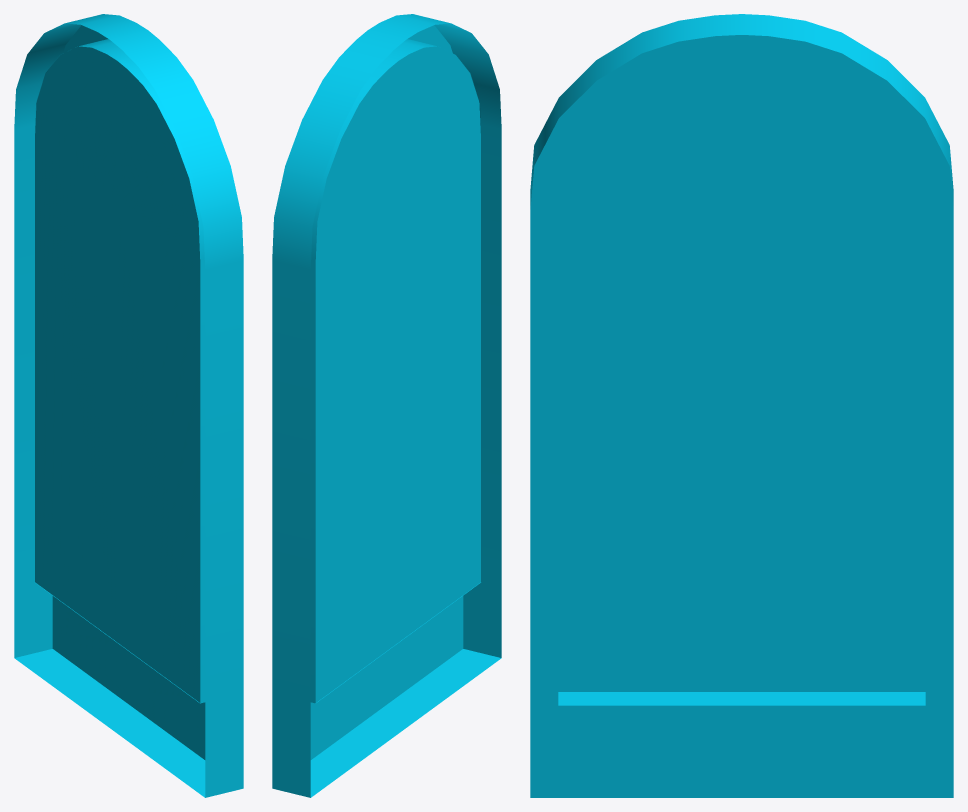
File: RT_Window01.FBX
The picture shows the model from 3 angles, left to right: view 1: azimuth 30°, elevation 25°; view 2: azimuth 150°, elevation 25°; view 3: azimuth 270°, elevation 25°; orthographic projection. The views are drawn at different scales.
Visible parts, largest first — view 1: Box140, Dummy002, Object085; view 2: Box140, Object085, Dummy002; view 3: Dummy002, Object085, Box140.
Boxes of the visible parts, left/top/right/bottom form: Box140: left=14, top=14, right=243, bottom=797; Dummy002: left=117, top=60, right=205, bottom=703; Object085: left=35, top=46, right=117, bottom=642; Box140: left=272, top=14, right=501, bottom=797; Object085: left=310, top=61, right=398, bottom=702; Dummy002: left=397, top=46, right=480, bottom=642; Dummy002: left=558, top=60, right=741, bottom=691; Object085: left=742, top=60, right=925, bottom=691; Box140: left=530, top=14, right=953, bottom=797.
Bounding box in the file's own units: 42.41 × 724 × 364.
